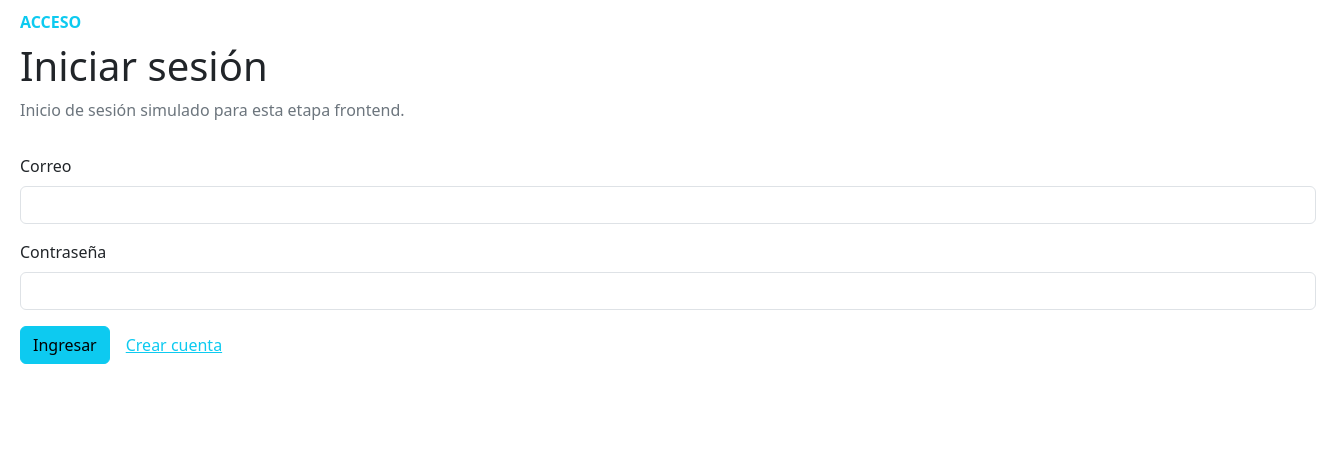
Test: inicio de sesión › rechaza credenciales incorrectas
This screenshot has width=1337, height=459.
Type "incorrecto@correo.cl" into the field labelled "Correo".
click(668, 205); type("incorrecto@correo.cl")  # box [20,186,1316,224]
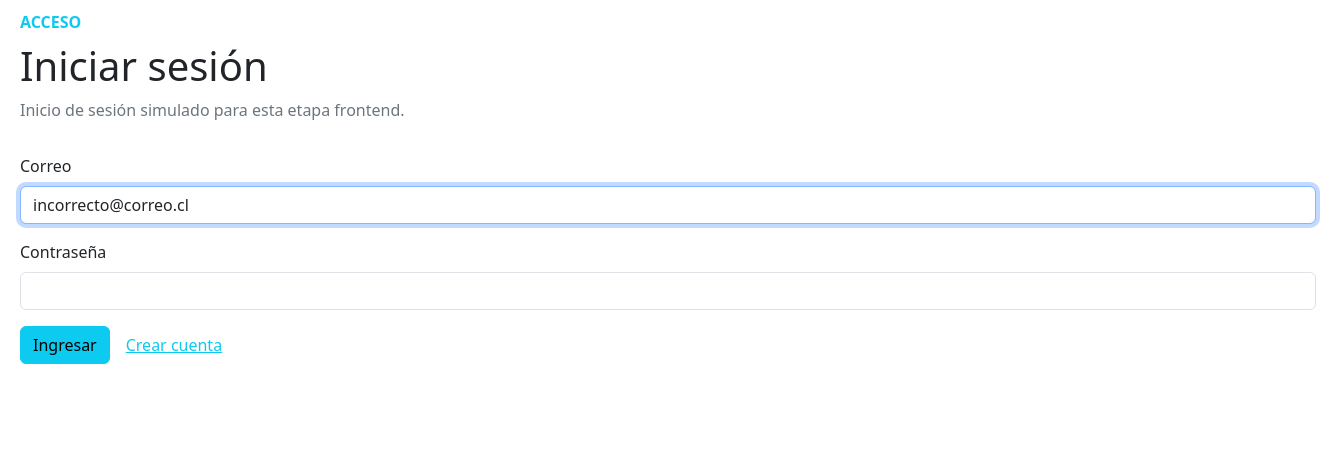
Type "000000" into the password field labelled "Contraseña".
click(668, 291); type("000000")  # box [20,272,1316,310]
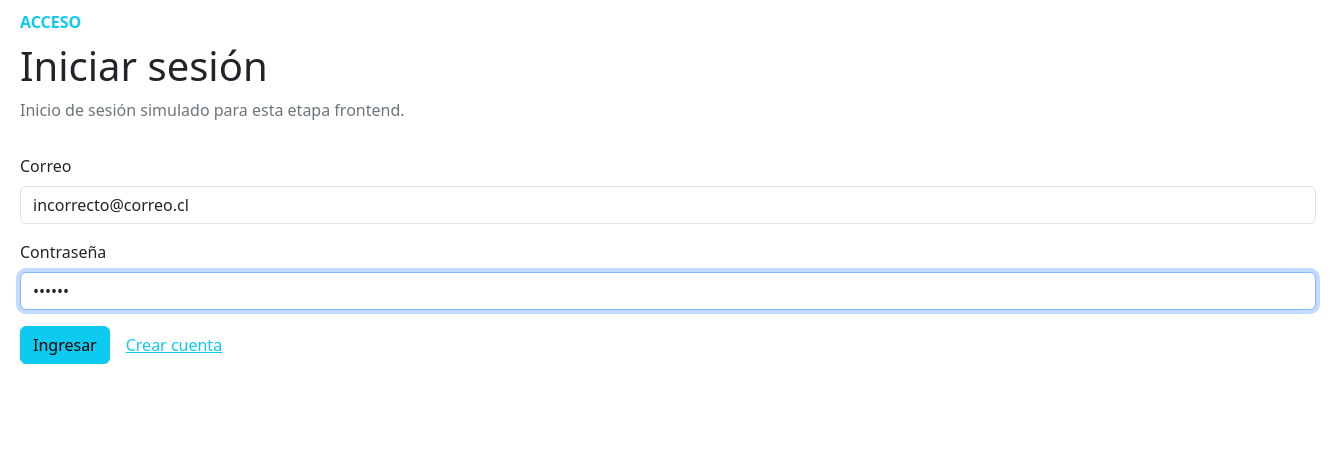
Click the button "Ingresar".
click(65, 345)  # box [20,326,110,364]
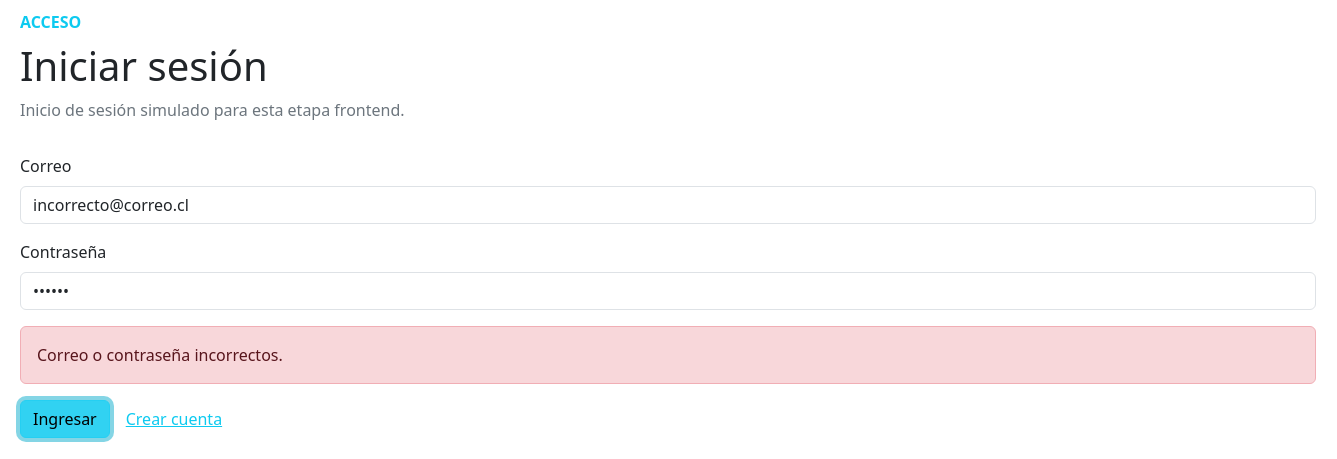
Expected: the text "Correo o contraseña incorrectos." is shown, [20,326,1316,384]
